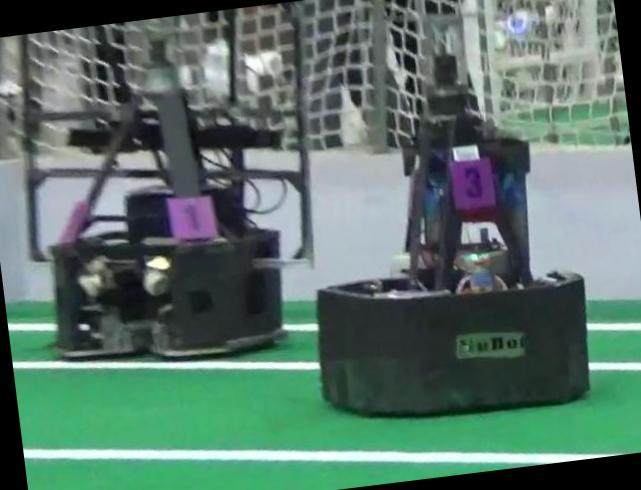robot: (318, 14, 589, 415), (20, 2, 312, 358)
